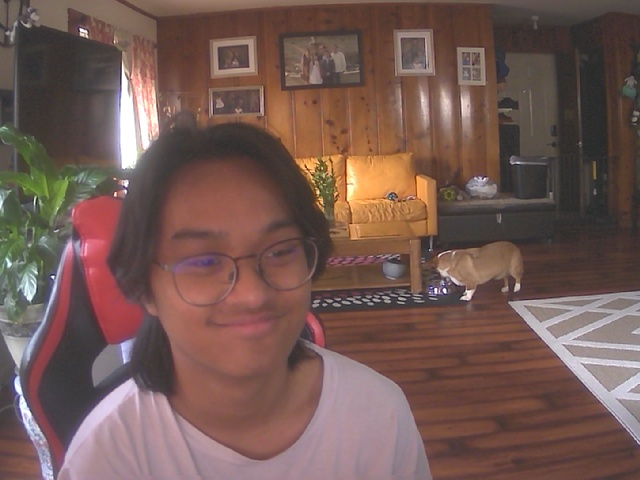happy: (137, 128, 329, 382)
